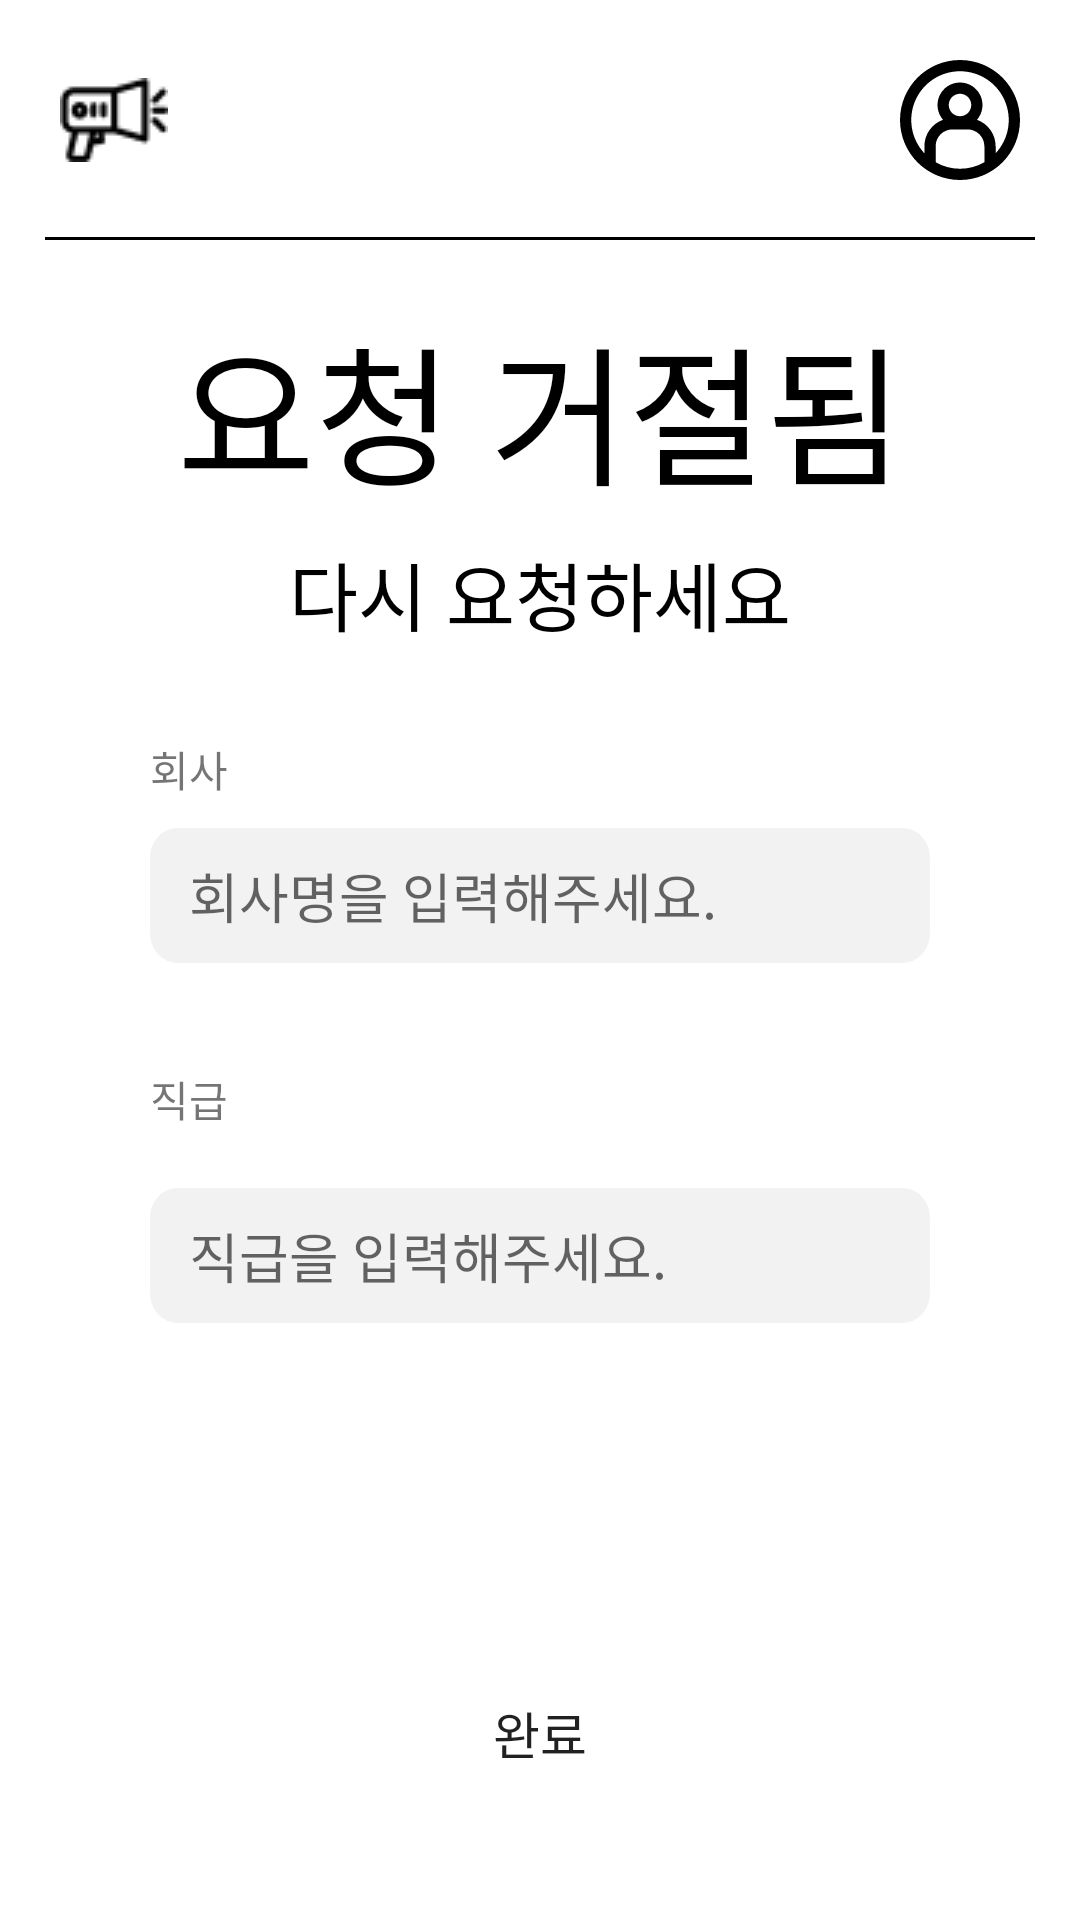

Icons on this 1080*1920 Android screen, each with its box as (x1, y1, x2, y2):
notification: (60, 78, 168, 162)
profile: (900, 60, 1020, 180)
